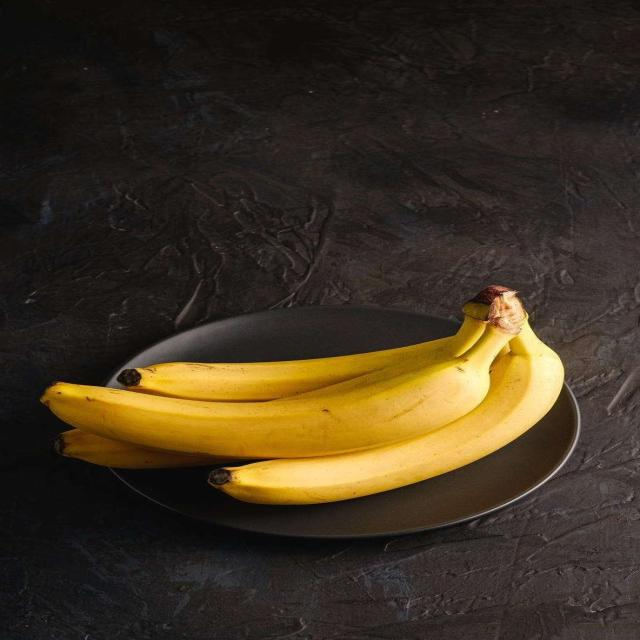unpeal banana: (42, 290, 524, 458), (210, 323, 563, 504), (118, 304, 488, 401), (54, 430, 233, 468)
